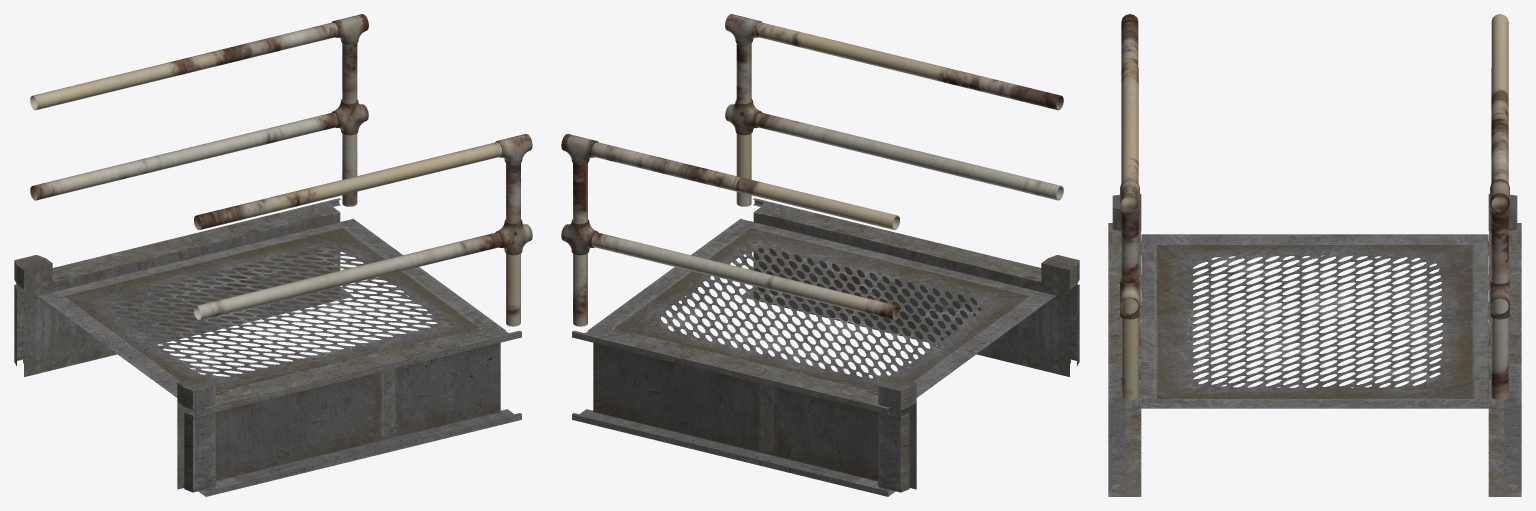
Rendered from upper_platform2x2.fbx.
The picture shows the model from 3 angles, left to right: view 1: azimuth 30°, elevation 25°; view 2: azimuth 150°, elevation 25°; view 3: azimuth 270°, elevation 25°; orthographic projection. The views are drawn at different scales.
Visible parts, largest first — view 1: upper_platform2x2; view 2: upper_platform2x2; view 3: upper_platform2x2.
Boxes of the visible parts, x1,y1,x2,y2 form: upper_platform2x2: (14,14,532,496); upper_platform2x2: (561,14,1079,496); upper_platform2x2: (1108,14,1521,496).
Size of the model in its own units: 219 by 166 by 200.
